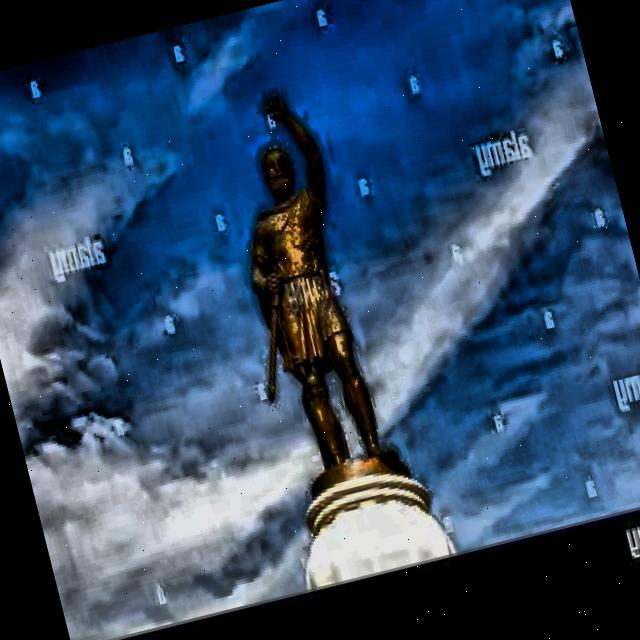Philip II of Macedonia: (192, 82, 434, 615)
